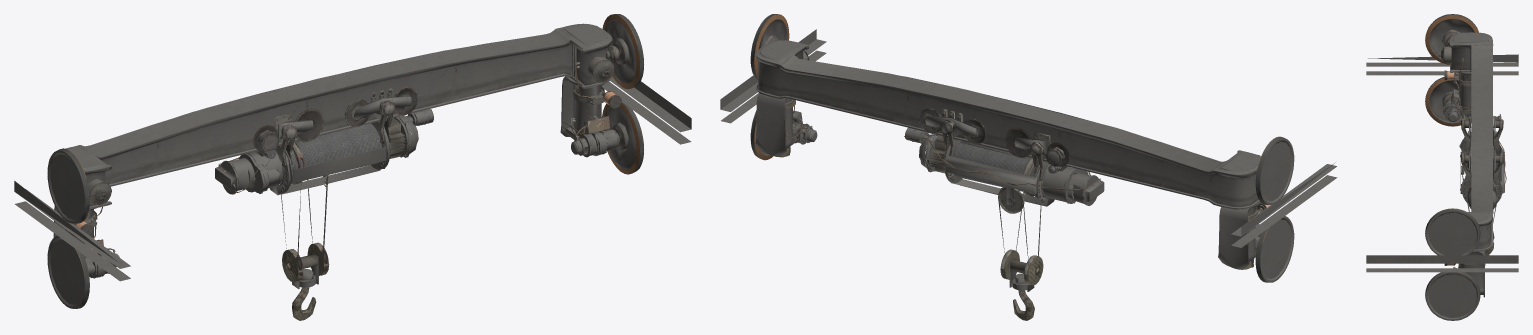
File: overhead_crane.glb
The picture shows the model from 3 angles, left to right: view 1: azimuth 30°, elevation 25°; view 2: azimuth 150°, elevation 25°; view 3: azimuth 270°, elevation 25°; orthographic projection. The views are drawn at different scales.
Visible parts, largest first — view 1: overhead_crane, overhead_crane_winch, overhead_crane_rails; view 2: overhead_crane, overhead_crane_winch, overhead_crane_rails; view 3: overhead_crane, overhead_crane_rails, overhead_crane_winch.
Boxes of the visible parts, x1=… form: overhead_crane: x1=47, y1=14, x2=643, y2=308; overhead_crane_winch: x1=215, y1=87, x2=433, y2=320; overhead_crane_rails: x1=14, y1=77, x2=691, y2=281; overhead_crane: x1=750, y1=14, x2=1294, y2=282; overhead_crane_winch: x1=904, y1=108, x2=1104, y2=320; overhead_crane_rails: x1=720, y1=29, x2=1337, y2=247; overhead_crane: x1=1425, y1=14, x2=1493, y2=320; overhead_crane_rails: x1=1366, y1=54, x2=1518, y2=272; overhead_crane_winch: x1=1459, y1=114, x2=1506, y2=255.
Bounding box in the file's own units: 12.49 × 5.13 × 4.
2 materials, 2 textured.
